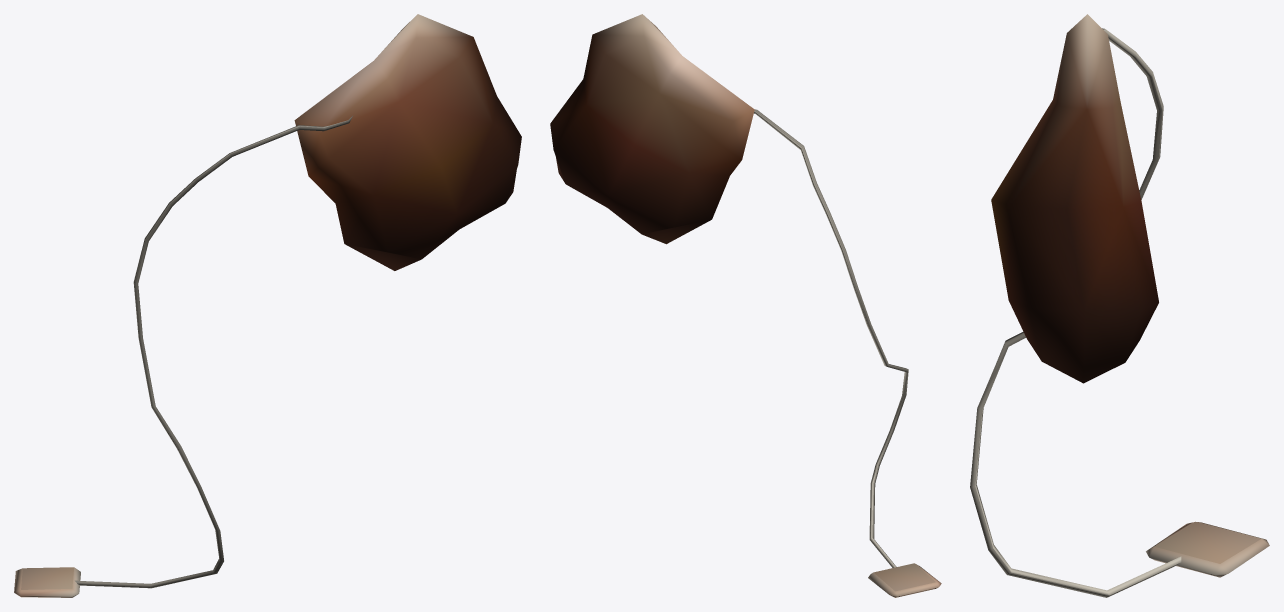
Rendered from tea_bag.fbx.
The picture shows the model from 3 angles, left to right: view 1: azimuth 30°, elevation 25°; view 2: azimuth 150°, elevation 25°; view 3: azimuth 270°, elevation 25°; orthographic projection. The views are drawn at different scales.
Parts seen in each view (by area): view 1: Tea_Bag; view 2: Tea_Bag; view 3: Tea_Bag.
Boxes of the visible parts, <box> form: Tea_Bag: <box>14,14,521,597</box>; Tea_Bag: <box>550,14,941,597</box>; Tea_Bag: <box>970,14,1269,597</box>.
Bounding box in the file's own units: 18.1 × 19.22 × 6.67.
